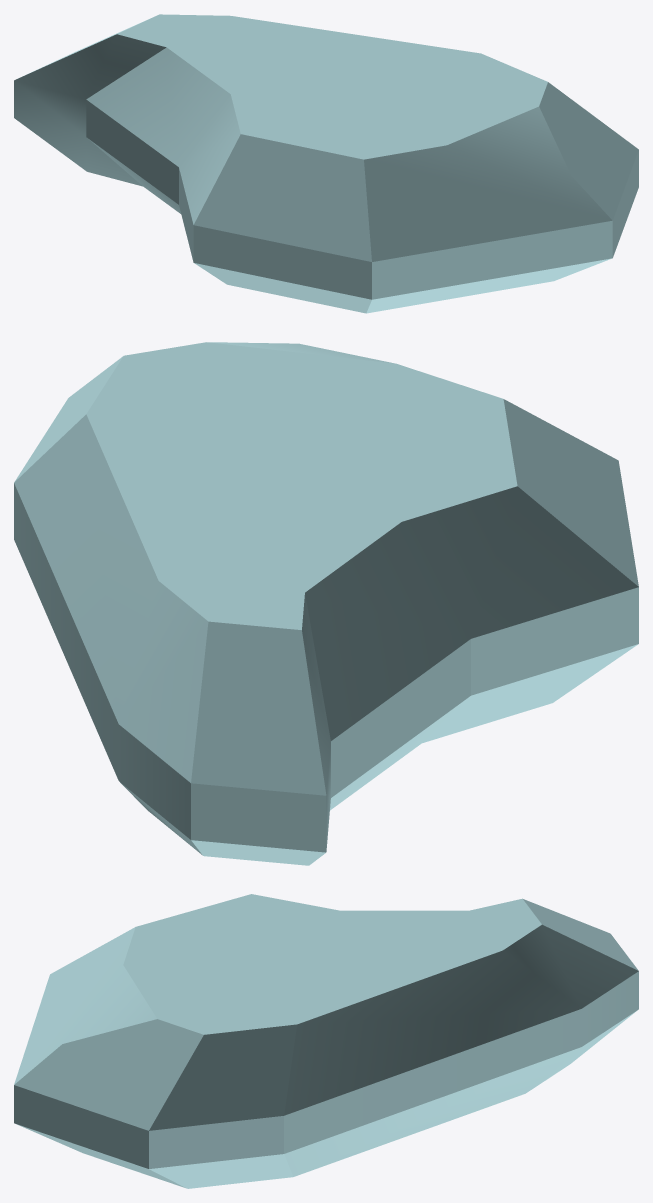
Rendered from stone_large1.obj.
3 renders of one model, top to bottom at view 1: azimuth 30°, elevation 25°; view 2: azimuth 150°, elevation 25°; view 3: azimuth 270°, elevation 25°, orthographic. The views are drawn at different scales.
Visible parts, largest first — view 1: stone_large1; view 2: stone_large1; view 3: stone_large1.
Part boxes in pixels (x1,y1,x2,y2): stone_large1: [14, 14, 638, 313]; stone_large1: [14, 342, 638, 865]; stone_large1: [14, 894, 638, 1188].
Size of the model in its own units: 7.85 by 2.6 by 10.15.
